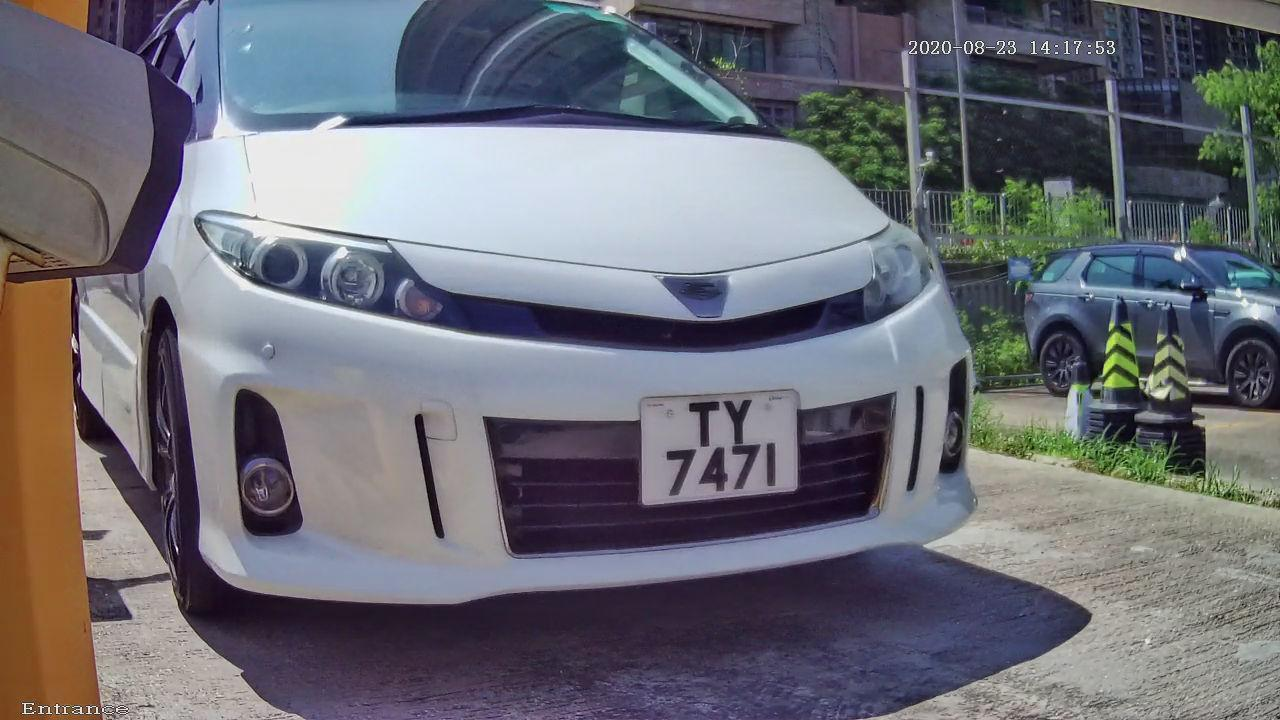License Plate: (618, 364, 818, 528)
